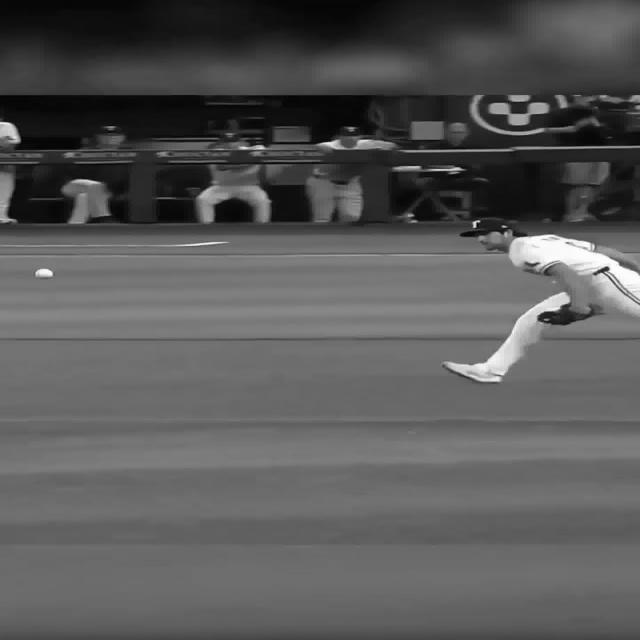baseball: (34, 268, 54, 279)
baseball_glove: (535, 302, 603, 326)
shoe: (440, 361, 503, 383), (563, 212, 599, 222), (439, 214, 460, 221)
